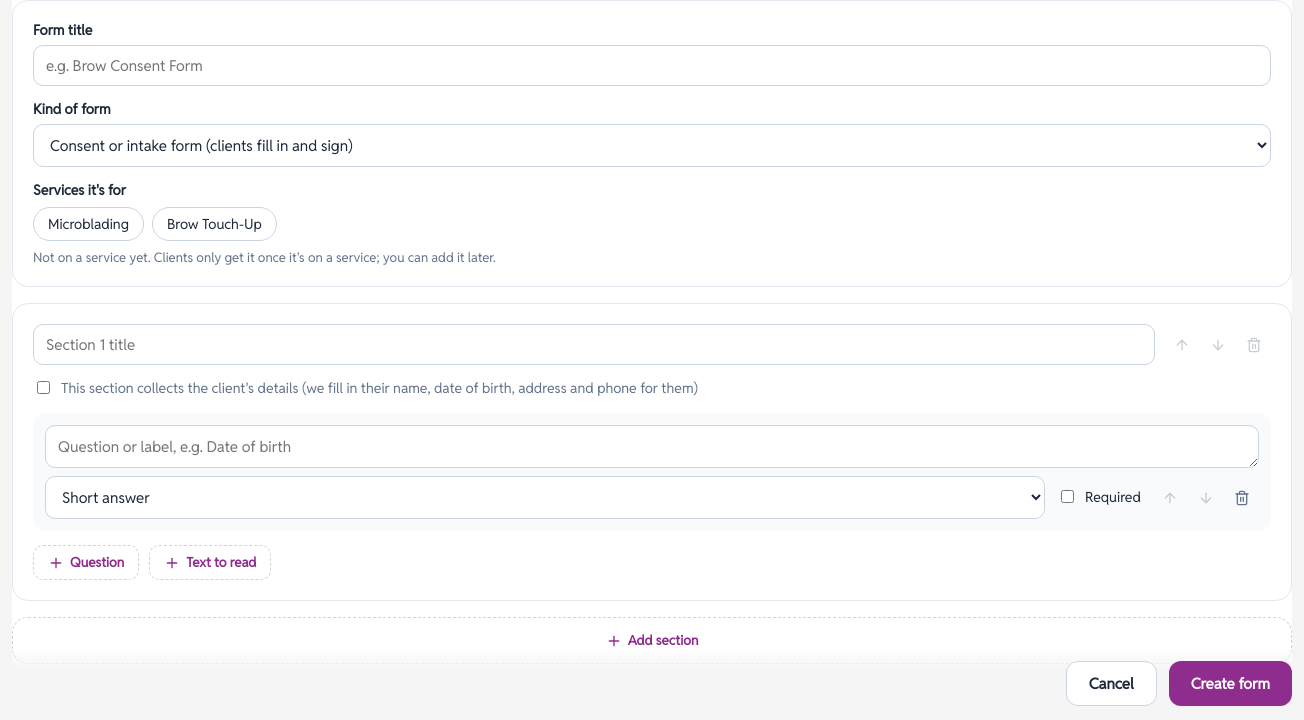
Test: building a form from scratch › asks for a title and a question before saving
Step 1. Click the button "Create form" → (1230, 684), box [1169,661,1292,706]
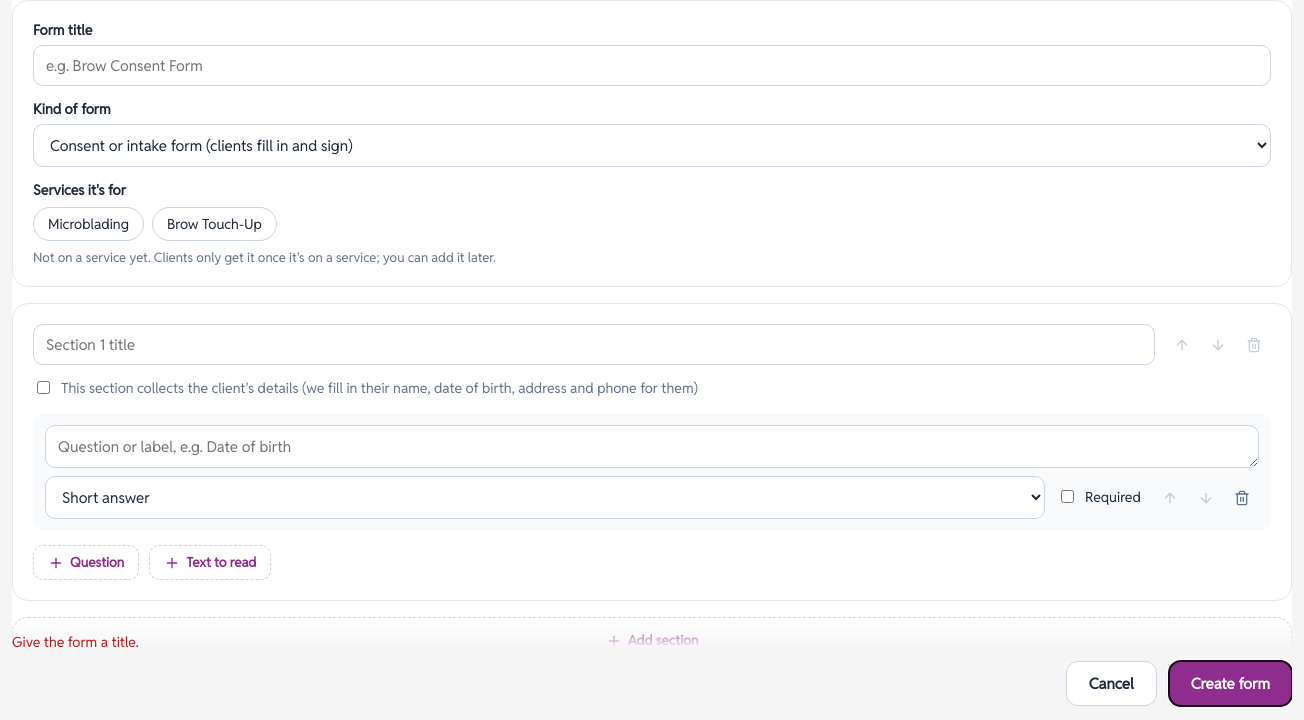
Result: the message reads "Give the form a title." at [12,633,139,651]
Step 2. Type "Empty" into the field labelled "Form title" → (652, 66), box [33,45,1271,86]
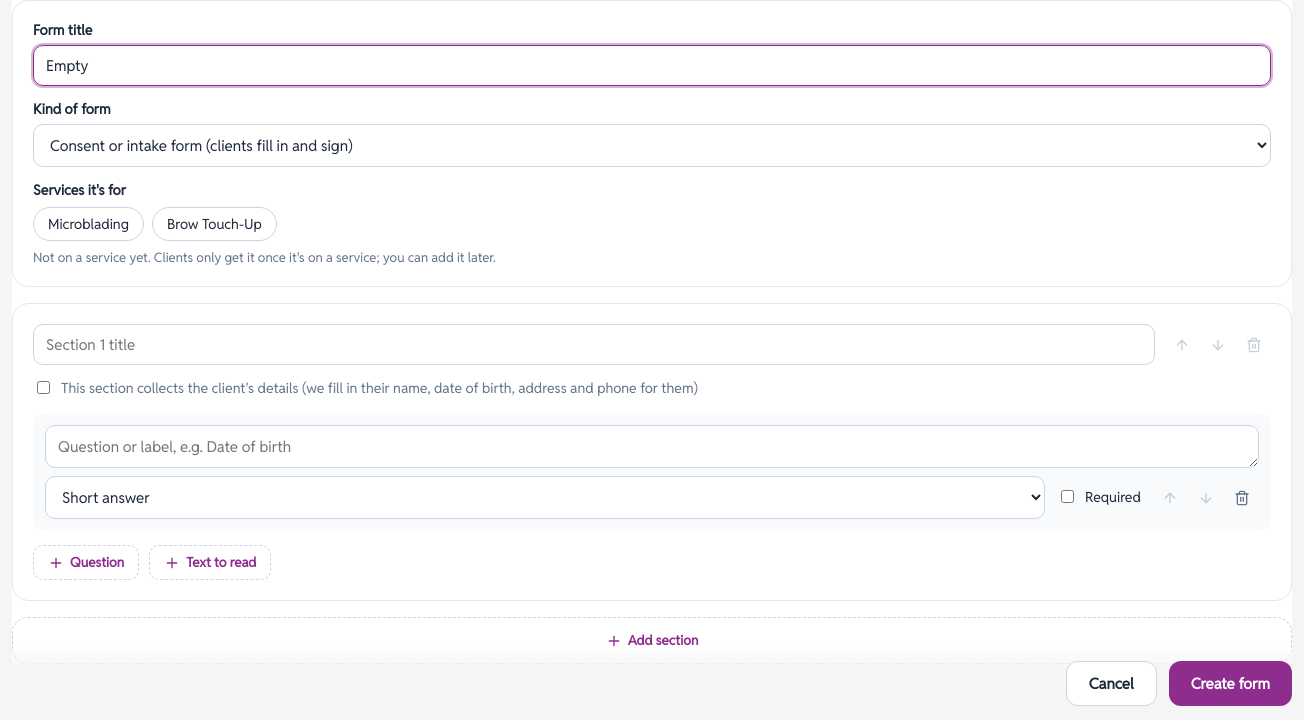
Step 3. Click the button "Create form" → (1230, 684), box [1169,661,1292,706]
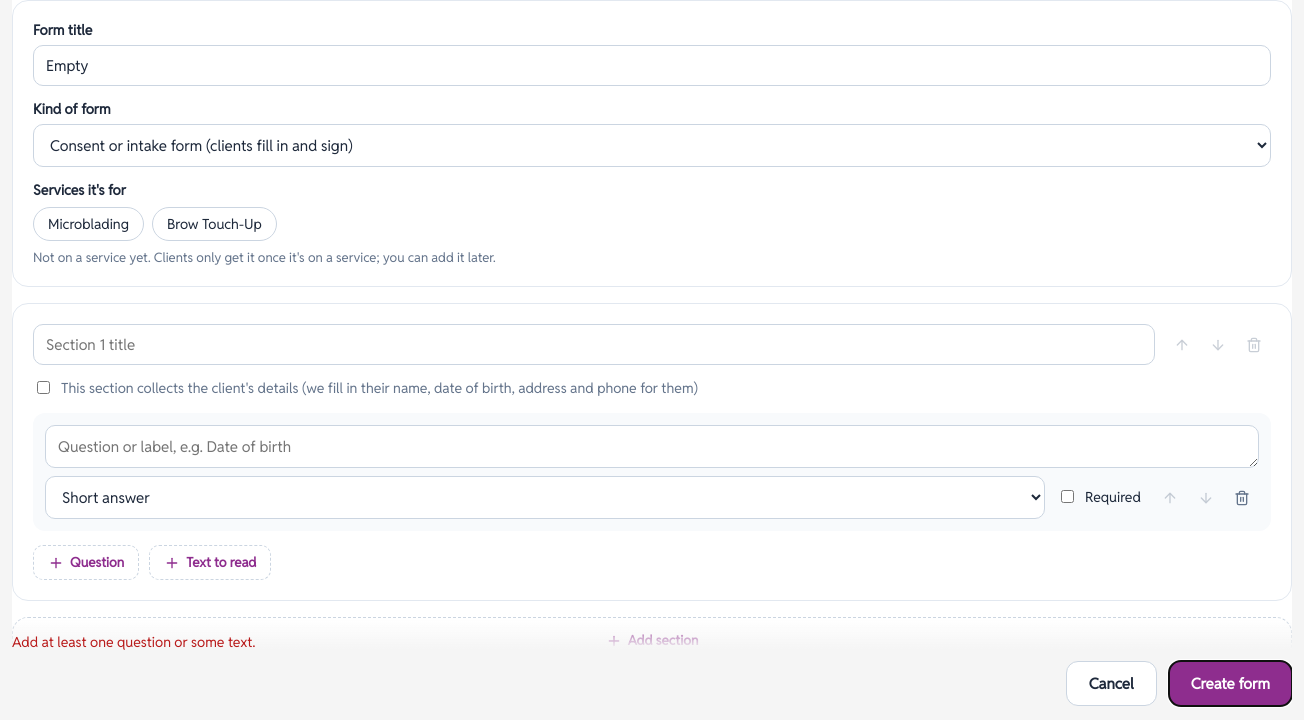
Expected: the text "Not on a service yet" is shown, [33,249,496,266]
Result: the message shows "Add at least one question" at [12,633,255,651]
